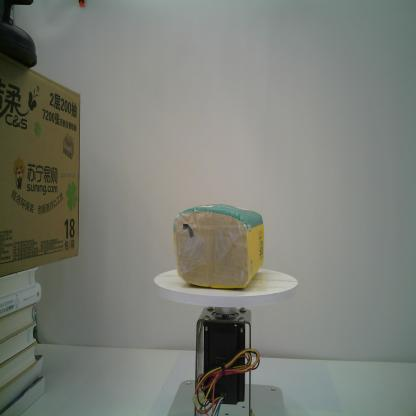Tissue: (173, 203, 265, 290)
